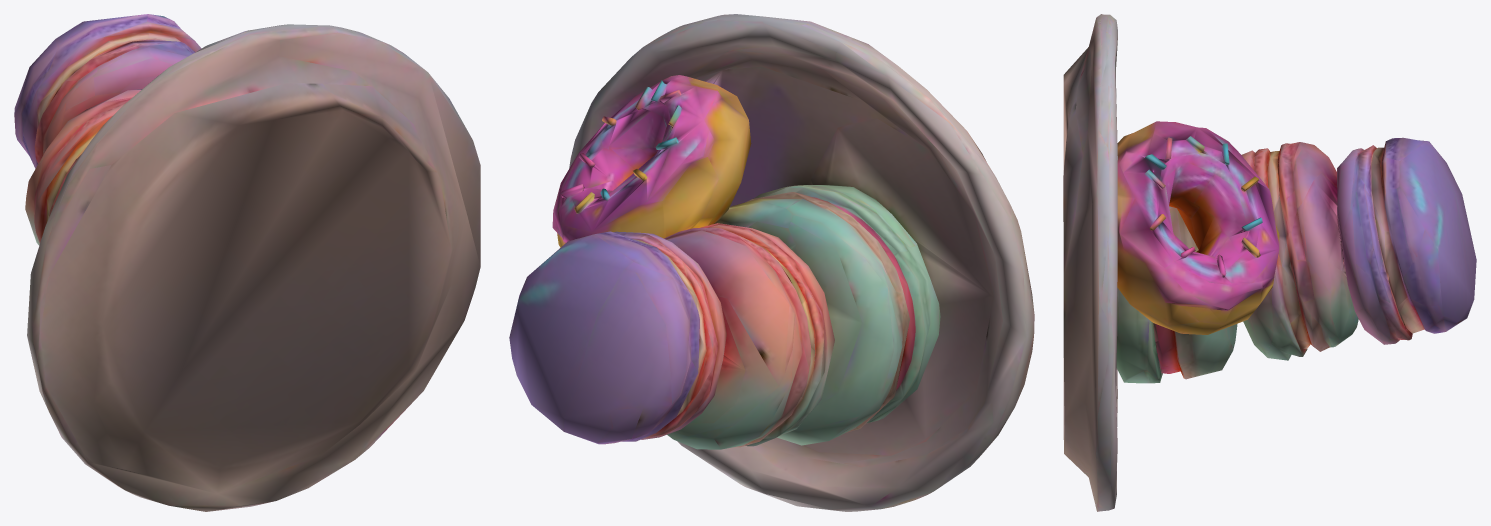
3 renders of one model, left to right at view 1: azimuth 30°, elevation 25°; view 2: azimuth 150°, elevation 25°; view 3: azimuth 270°, elevation 25°, orthographic. The views are drawn at different scales.
Parts seen in each view (by area): view 1: material; view 2: material; view 3: material.
Boxes of the visible parts, <box> form: material: <box>14,14,480,511</box>; material: <box>509,14,1034,511</box>; material: <box>1063,14,1476,511</box>.
Size of the model in its own units: 1 by 0.9976 by 0.8249.
Materials: 1 (1 with a texture image).
